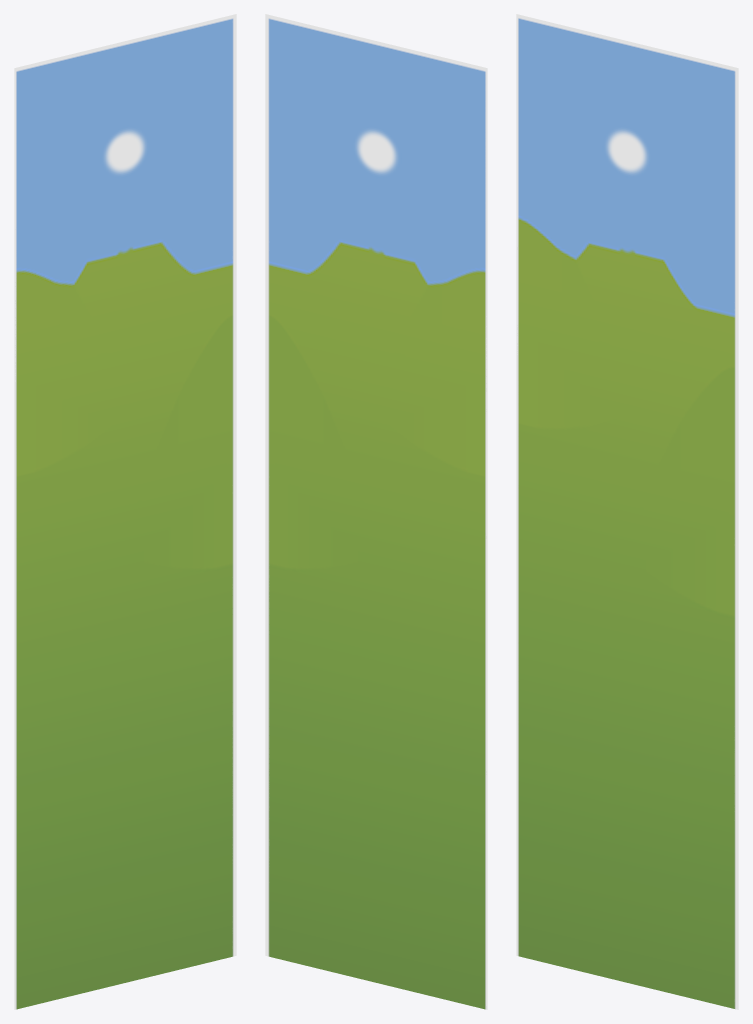
Rendered from Flower_02.fbx.
3 renders of one model, left to right at view 1: azimuth 30°, elevation 25°; view 2: azimuth 150°, elevation 25°; view 3: azimuth 330°, elevation 25°, orthographic.
Visible parts, largest first — view 1: Flower_02; view 2: Flower_02; view 3: Flower_02.
Part boxes in pixels (x1,y1,x2,y2): Flower_02: (14,14,236,1009); Flower_02: (265,14,487,1009); Flower_02: (516,14,738,1009).
Size of the model in its own units: 0.1053 by 0.427 by 8.82e-08.
Materials: 1 (1 with a texture image).
